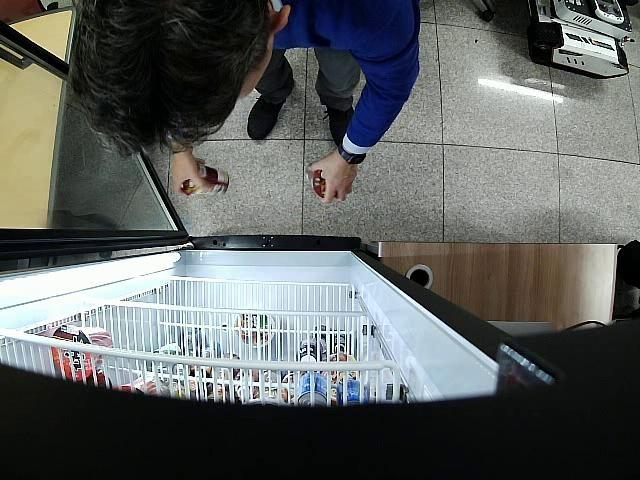06_nuguri_S: (182, 162, 228, 196), (306, 164, 346, 198)
